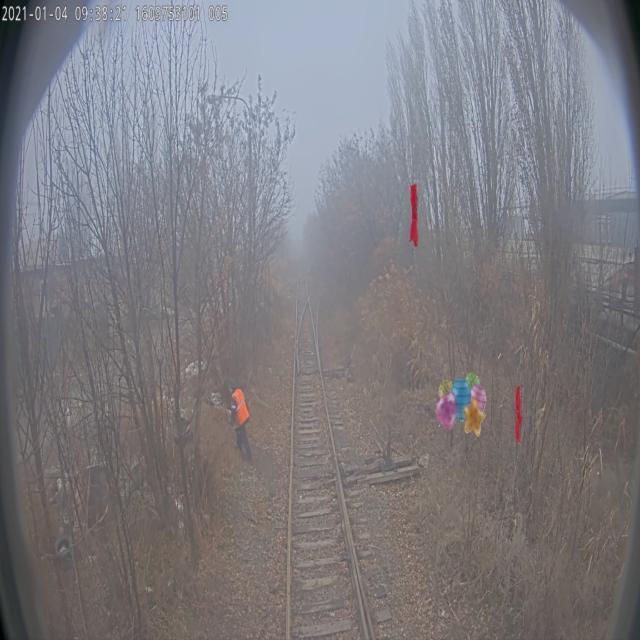balloon: (436, 372, 487, 436)
floating object: (409, 183, 419, 247), (515, 381, 523, 445)
